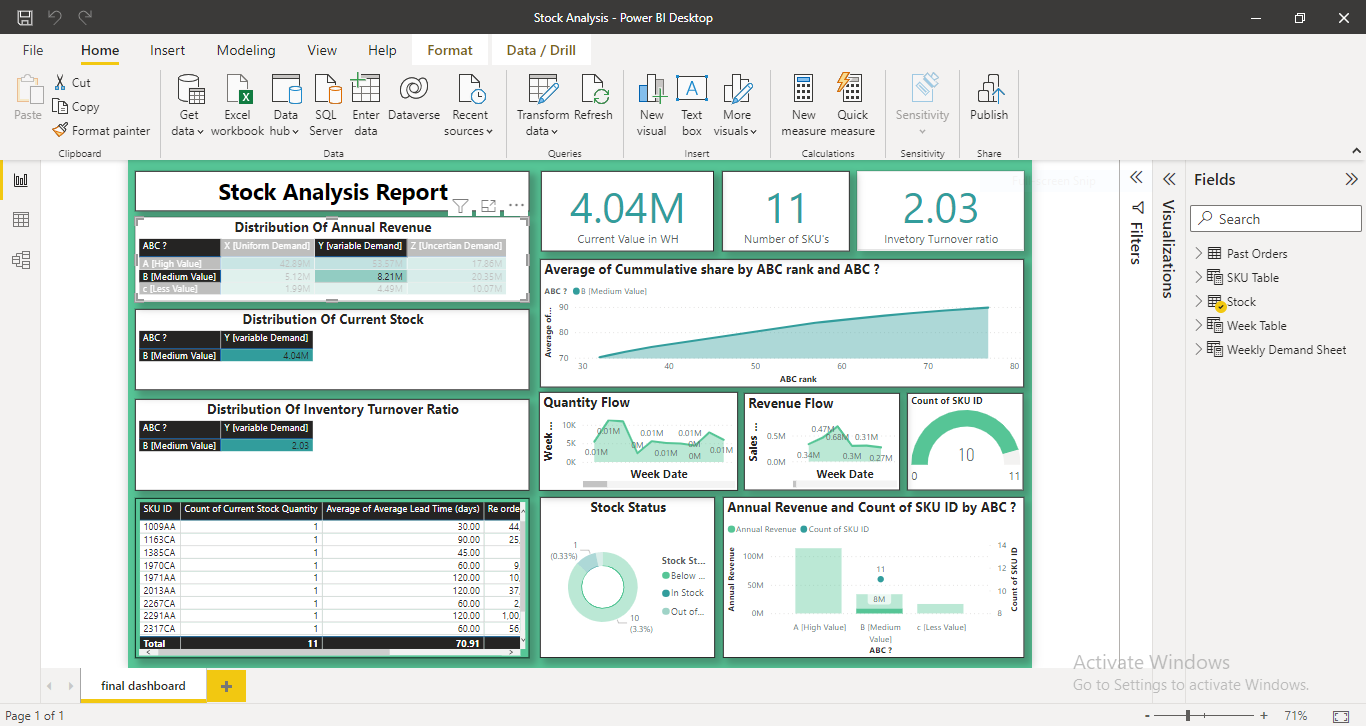

The page's visual inventory and layout, read from the dashboard file:
{"tool":"powerbi","page":{"name":"final dashboard ","canvas":[1280,720],"ordinal":0},"visuals":[{"type":"areaChart","fields":{"Category":["Stock.ABC rank"],"Y":["Avg(Stock.Cummulative share)"],"Series":["Stock.ABC ?"]},"box":[583.7,139.9,686.2,182.1],"z":0},{"type":"pivotTable","title":"Distribution Of Annual Revenue","fields":{"Rows":["Stock.ABC ?"],"Columns":["Stock.XYZ ?"],"Values":["Sum(Stock.Annual Revenue)"]},"box":[9.5,80.9,559.3,120.2],"z":1000},{"type":"pivotTable","title":"Distribution Of Inventory Turnover Ratio","fields":{"Rows":["Stock.ABC ?"],"Columns":["Stock.XYZ ?"],"Values":["Stock.Invetory Turnover ratio"]},"box":[9.5,339.2,559.3,129.7],"z":2000},{"type":"pivotTable","title":"Distribution Of Current Stock","fields":{"Rows":["Stock.ABC ?"],"Columns":["Stock.XYZ ?"],"Values":["Sum(Stock.Value in WH)"]},"box":[9.5,211.8,559.3,115.4],"z":3000},{"type":"card","fields":{"Values":["Stock.Invetory Turnover ratio"]},"box":[1033,15.5,236.8,113.1],"z":4000},{"type":"card","fields":{"Values":["CountNonNull(Stock.SKU ID)"]},"box":[842.6,15.5,180.9,114.2],"z":5000},{"type":"card","fields":{"Values":["Sum(Stock.Value in WH)"]},"box":[585.5,15.5,245.2,114.2],"z":6000},{"type":"tableEx","fields":{"Values":["Stock.SKU ID","Stock.Current Stock Quantity","Stock.Average Lead Time (days)","Stock.Re order point","Stock.Safety Stock","Stock.Stock Status"]},"box":[9.5,478.4,559.3,227.3],"z":7000},{"type":"gauge","title":"Count of SKU ID","fields":{"Y":["Stock.SKUs to Reorder"],"MaxValue":["Count(Stock.SKU ID)"]},"box":[1104.4,330.8,165.4,138],"z":8000},{"type":"donutChart","title":"Stock Status","fields":{"Y":["CountNonNull(Stock.SKU ID)"],"Category":["Stock.Stock Status"]},"box":[583.7,477.6,248.4,227.9],"z":9000},{"type":"areaChart","title":"Quantity Flow","fields":{"Category":["Weekly Demand Sheet.Week Date"],"Y":["Sum(Weekly Demand Sheet.Weeks Demand)"]},"box":[583.1,328.5,282,140.4],"z":10000},{"type":"areaChart","title":"Revenue Flow","fields":{"Y":["Sum(Weekly Demand Sheet.Sales Amount)"],"Category":["Weekly Demand Sheet.Week Date"]},"box":[873.5,329.7,221.4,138],"z":11000},{"type":"lineStackedColumnComboChart","fields":{"Category":["Stock.ABC ?"],"Y":["Sum(Stock.Annual Revenue)"],"Y2":["CountNonNull(Stock.SKU ID)"]},"box":[843,477.6,426.9,227.9],"z":12000},{"type":"textbox","box":[9.5,15.5,559.3,57.1],"z":13000}]}

Visuals, with their boxes on the page's 1280x720 design canvas (x1, y1, x2, y2). These are canvas units, not pixel positions in the 1366x726 screenshot, which may show the page scaled, cropped or inside an application window:
areaChart - Stock.ABC rank x Avg(Stock.Cummulative share): <bbox>584, 140, 1270, 322</bbox>
"Distribution Of Annual Revenue" pivotTable: <bbox>10, 81, 569, 201</bbox>
"Distribution Of Inventory Turnover Ratio" pivotTable: <bbox>10, 339, 569, 469</bbox>
"Distribution Of Current Stock" pivotTable: <bbox>10, 212, 569, 327</bbox>
card - Stock.Invetory Turnover ratio: <bbox>1033, 16, 1270, 129</bbox>
card - CountNonNull(Stock.SKU ID): <bbox>843, 16, 1024, 130</bbox>
card - Sum(Stock.Value in WH): <bbox>586, 16, 831, 130</bbox>
tableEx - Stock.SKU ID x Stock.Current Stock Quantity: <bbox>10, 478, 569, 706</bbox>
"Count of SKU ID" gauge: <bbox>1104, 331, 1270, 469</bbox>
"Stock Status" donutChart: <bbox>584, 478, 832, 706</bbox>
"Quantity Flow" areaChart: <bbox>583, 328, 865, 469</bbox>
"Revenue Flow" areaChart: <bbox>874, 330, 1095, 468</bbox>
lineStackedColumnComboChart - Stock.ABC ? x Sum(Stock.Annual Revenue): <bbox>843, 478, 1270, 706</bbox>
textbox: <bbox>10, 16, 569, 73</bbox>
